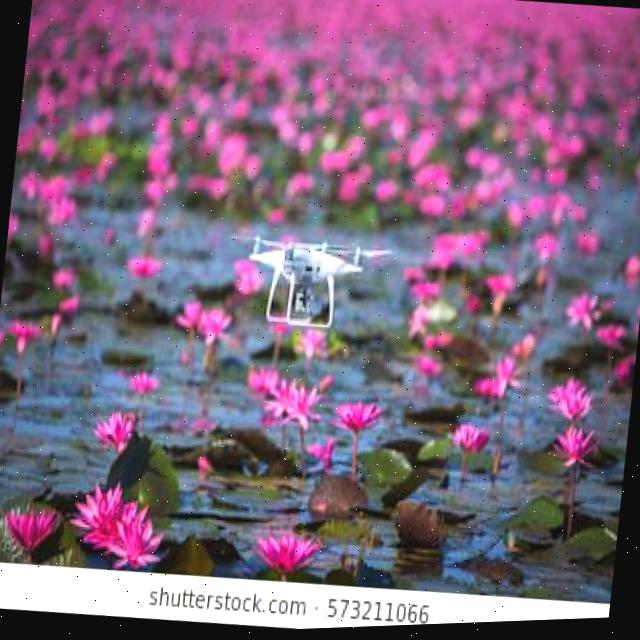drone: (218, 203, 400, 359)
